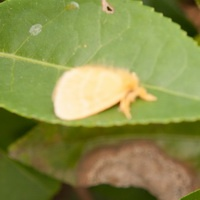insect: (53, 66, 156, 119)
